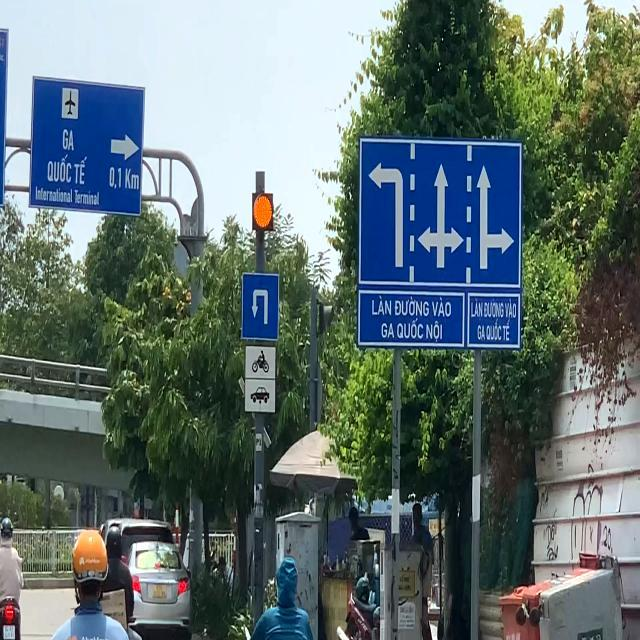Cho quay xe: (242, 270, 281, 338)
